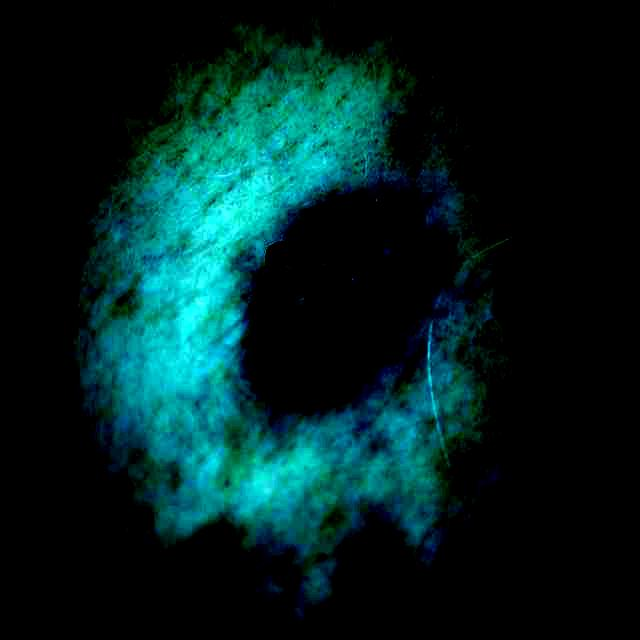BKL: (253, 203, 425, 400)
